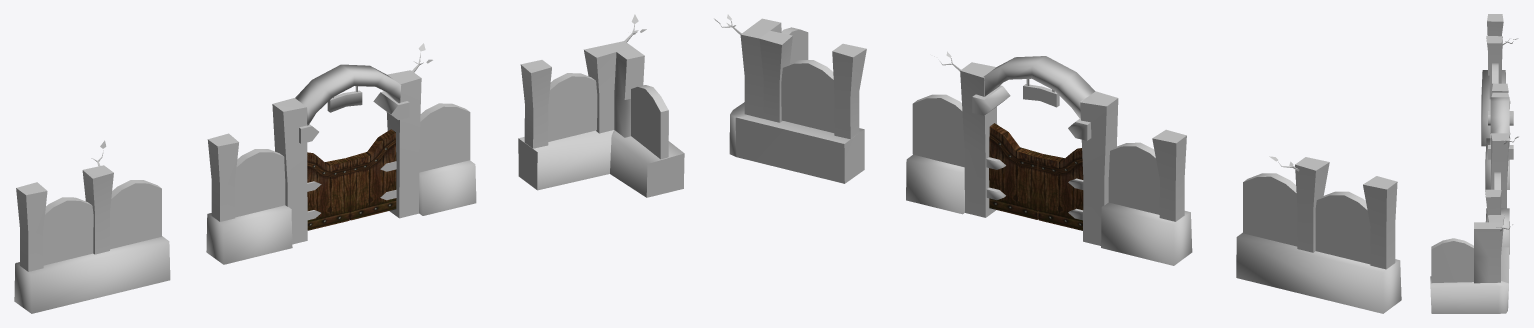
The model's file is StoneWalls02.FBX.
The picture shows the model from 3 angles, left to right: view 1: azimuth 30°, elevation 25°; view 2: azimuth 150°, elevation 25°; view 3: azimuth 270°, elevation 25°; orthographic projection. The views are drawn at different scales.
Parts seen in each view (by area): view 1: Stone_wall01_center, Stone_wall01_corner, Stone_wall01_tile; view 2: Stone_wall01_center, Stone_wall01_tile, Stone_wall01_corner; view 3: Stone_wall01_corner, Stone_wall01_center, Stone_wall01_tile.
Part boxes in pixels (x1,y1,x2,y2): Stone_wall01_center: (206, 43, 476, 264); Stone_wall01_corner: (518, 14, 684, 197); Stone_wall01_tile: (14, 140, 170, 313); Stone_wall01_center: (906, 51, 1192, 265); Stone_wall01_tile: (1236, 156, 1401, 313); Stone_wall01_corner: (714, 14, 866, 183); Stone_wall01_corner: (1430, 189, 1512, 313); Stone_wall01_center: (1485, 83, 1518, 254); Stone_wall01_tile: (1481, 14, 1518, 146).
Size of the model in its own units: 8.43 by 2 by 1.44.
